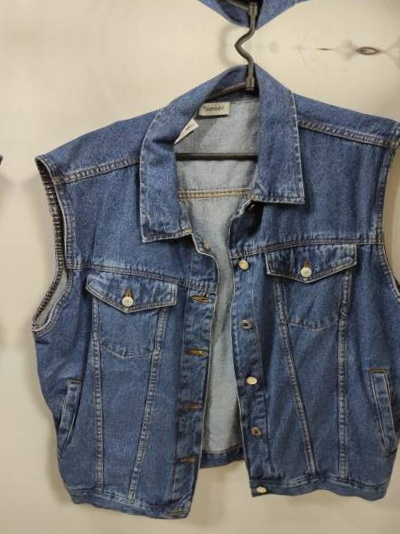Blazer: (23, 51, 400, 527), (43, 0, 400, 39), (0, 35, 4, 510), (0, 0, 23, 22)
